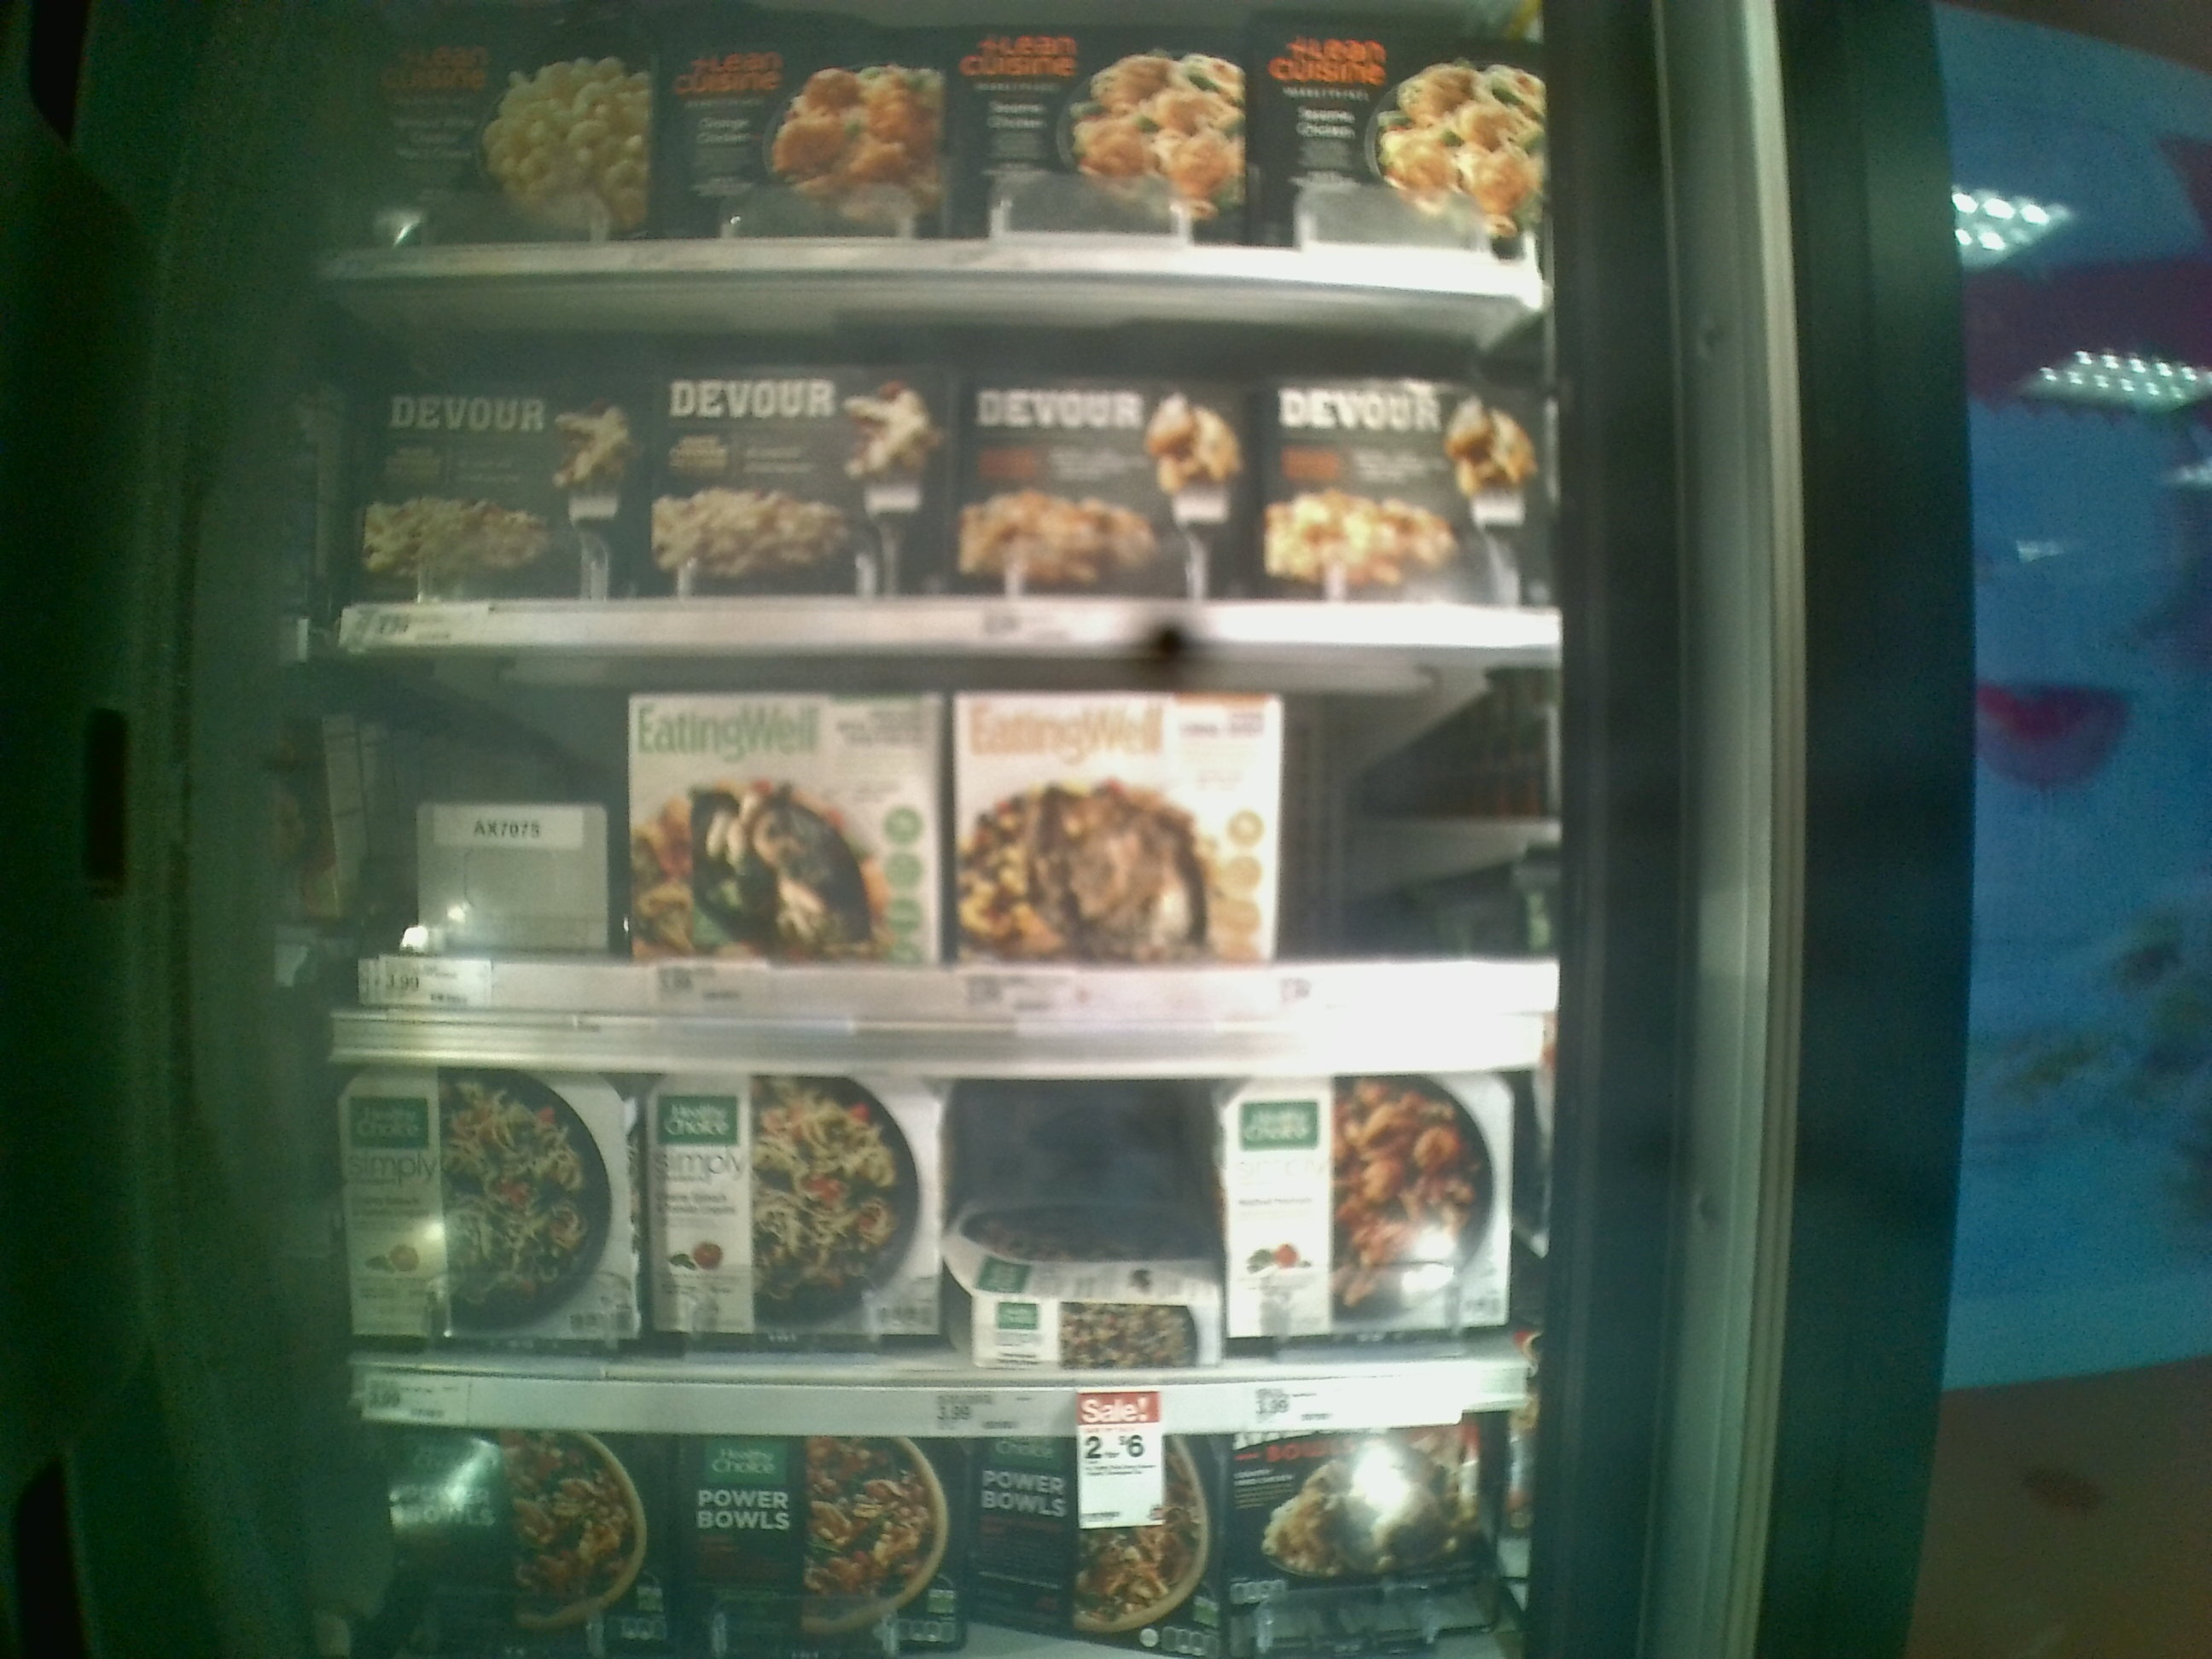shelf: (322, 272, 1571, 647), (333, 1054, 1562, 1432), (331, 650, 1583, 1006)
